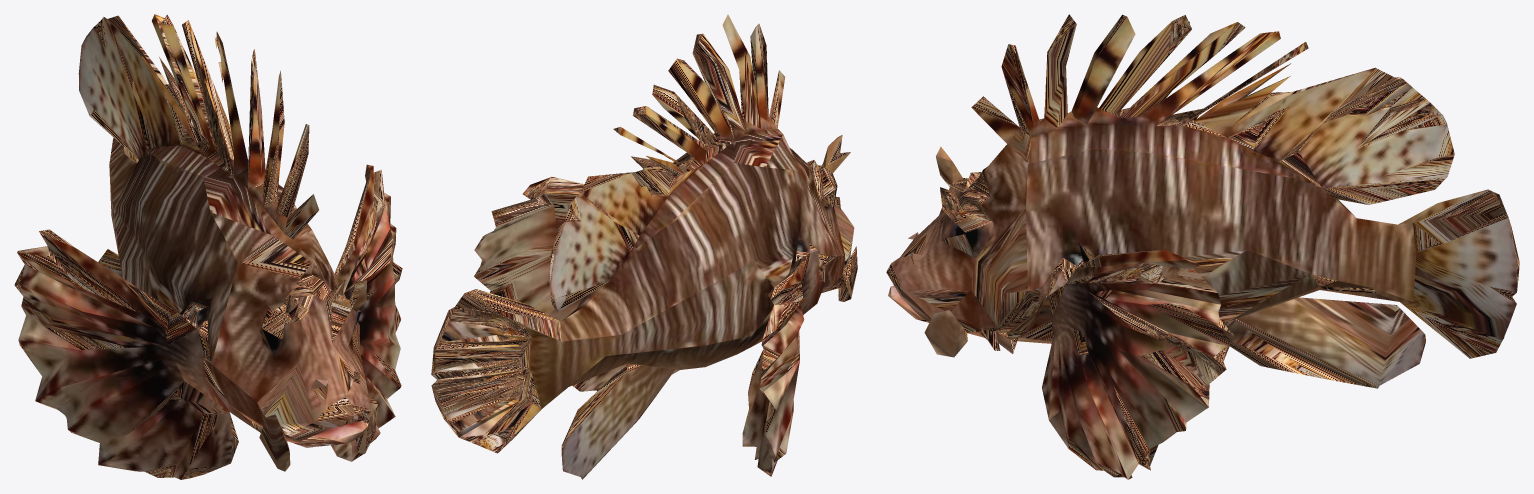
The model's file is 03_lionfish.glb.
3 renders of one model, left to right at view 1: azimuth 30°, elevation 25°; view 2: azimuth 150°, elevation 25°; view 3: azimuth 270°, elevation 25°, orthographic. The views are drawn at different scales.
Visible parts, largest first — view 1: geometry_0; view 2: geometry_0; view 3: geometry_0.
Boxes of the visible parts, box(x1,y1,x2,y2) form: geometry_0: box(14, 14, 402, 479); geometry_0: box(431, 14, 857, 479); geometry_0: box(886, 14, 1519, 479).
Size of the model in its own units: 0.6271 by 0.7252 by 1.
1 material, 1 textured.
